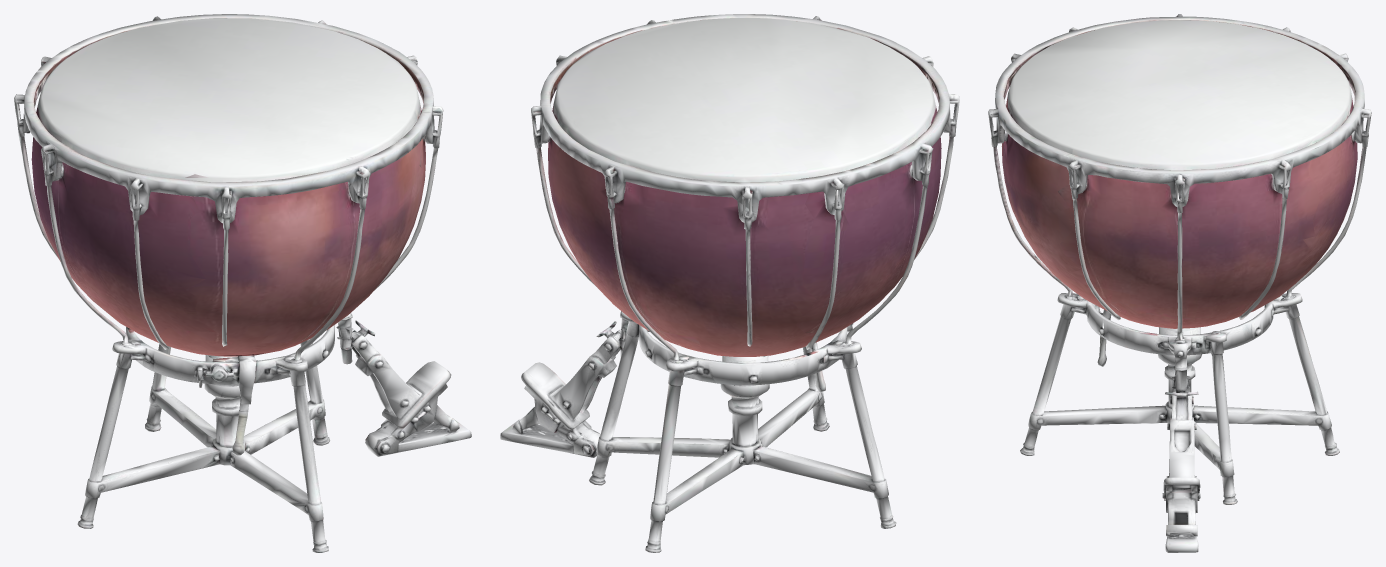
The model's file is timpani.glb.
3 views of the same model, side by side, from view 1: azimuth 30°, elevation 25°; view 2: azimuth 150°, elevation 25°; view 3: azimuth 270°, elevation 25° (orthographic). The views are drawn at different scales.
Visible parts, largest first — view 1: mesh; view 2: mesh; view 3: mesh.
Part boxes in pixels (box(x1,y1,x2,y2)): mesh: box(14, 14, 471, 552); mesh: box(500, 14, 959, 552); mesh: box(988, 14, 1371, 552).
Size of the model in its own units: 1.12 by 1 by 0.9677.
Materials: 1 (1 with a texture image).
